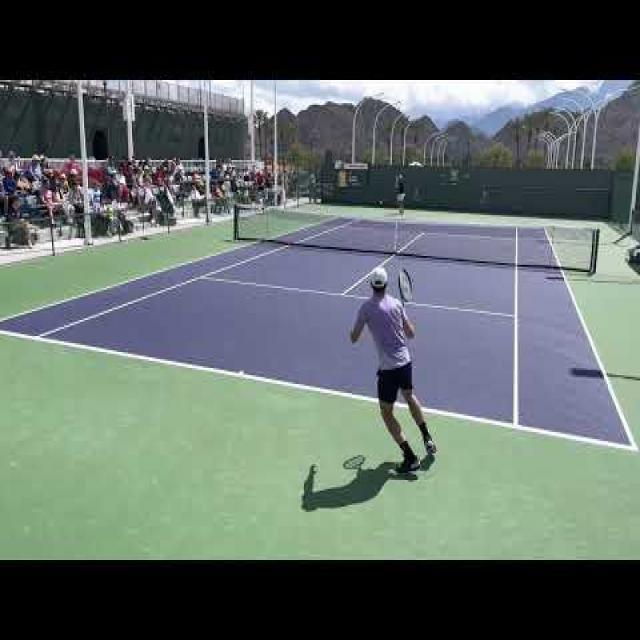court: (0, 246, 632, 473)
net: (230, 194, 620, 282)
player: (340, 252, 453, 489)
